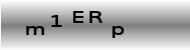1: (49, 14, 62, 27)
E: (72, 9, 84, 23)
R: (88, 10, 103, 24)
m: (23, 24, 45, 36)
p: (111, 25, 124, 39)
